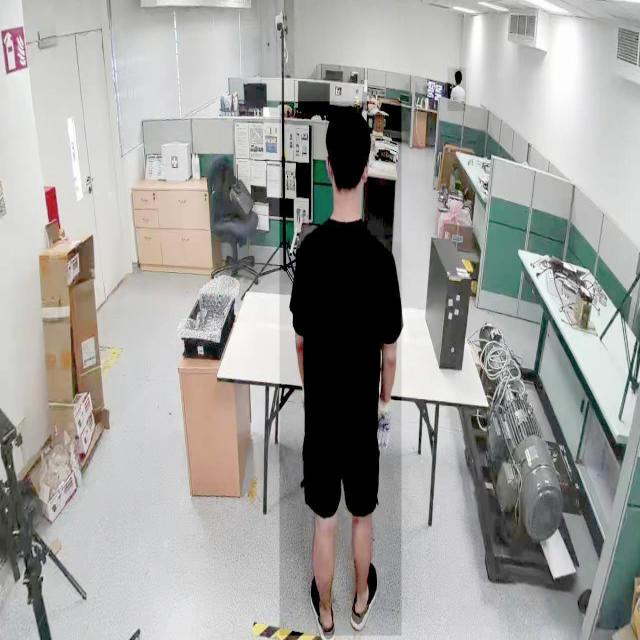head_nohelmet: (326, 103, 374, 151), (454, 70, 462, 78)
person: (280, 101, 402, 636), (448, 68, 467, 112)
shoes: (346, 556, 382, 633), (304, 568, 338, 640)
